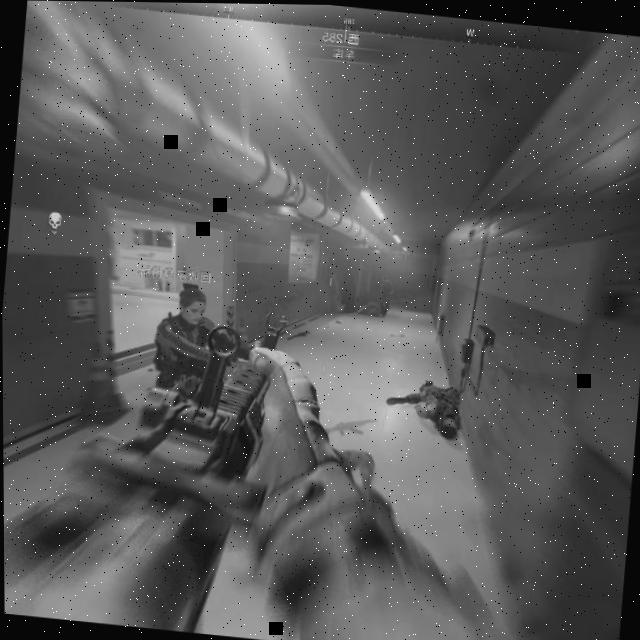MW2_body: (151, 279, 216, 373)
